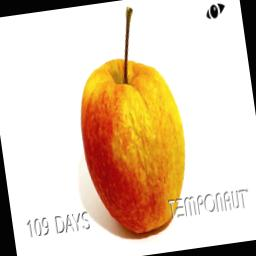Apple Overripe: (66, 4, 197, 244)
